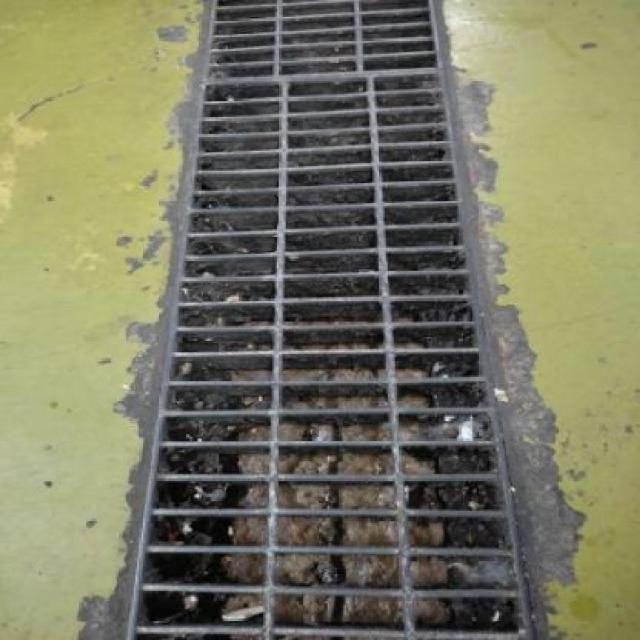Drain Hole: (115, 62, 483, 579)
